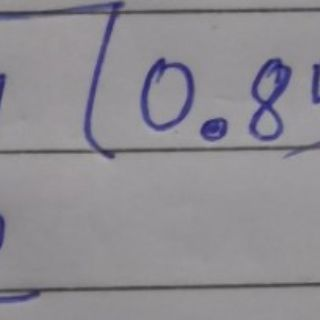.: (198, 115, 230, 144)
0: (136, 55, 196, 134)
8: (247, 55, 290, 144)
